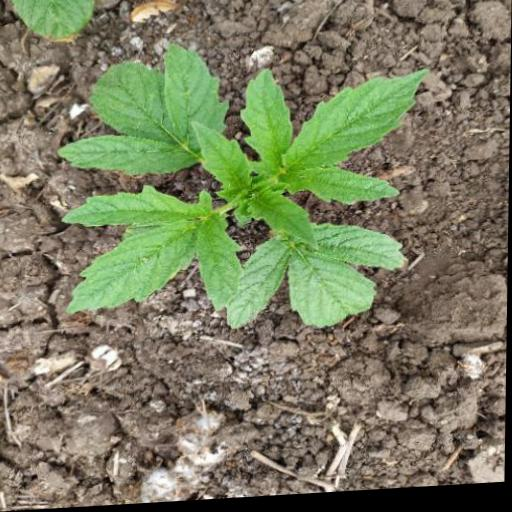crop: (54, 32, 437, 350)
